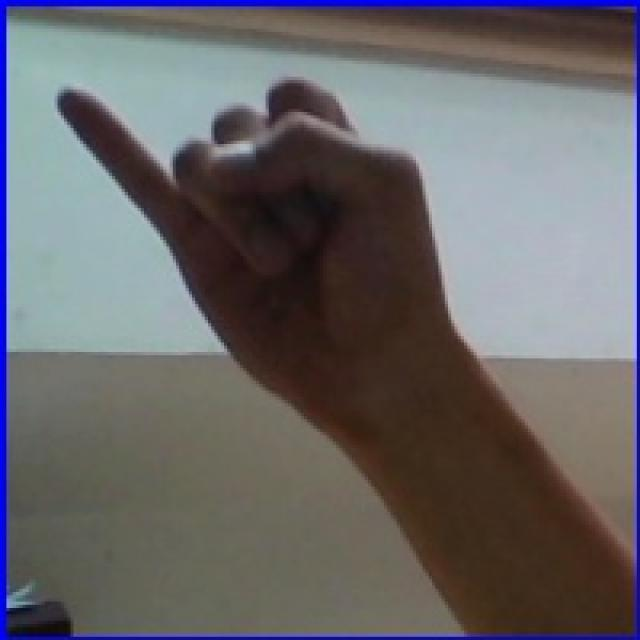J: (23, 32, 563, 479)
